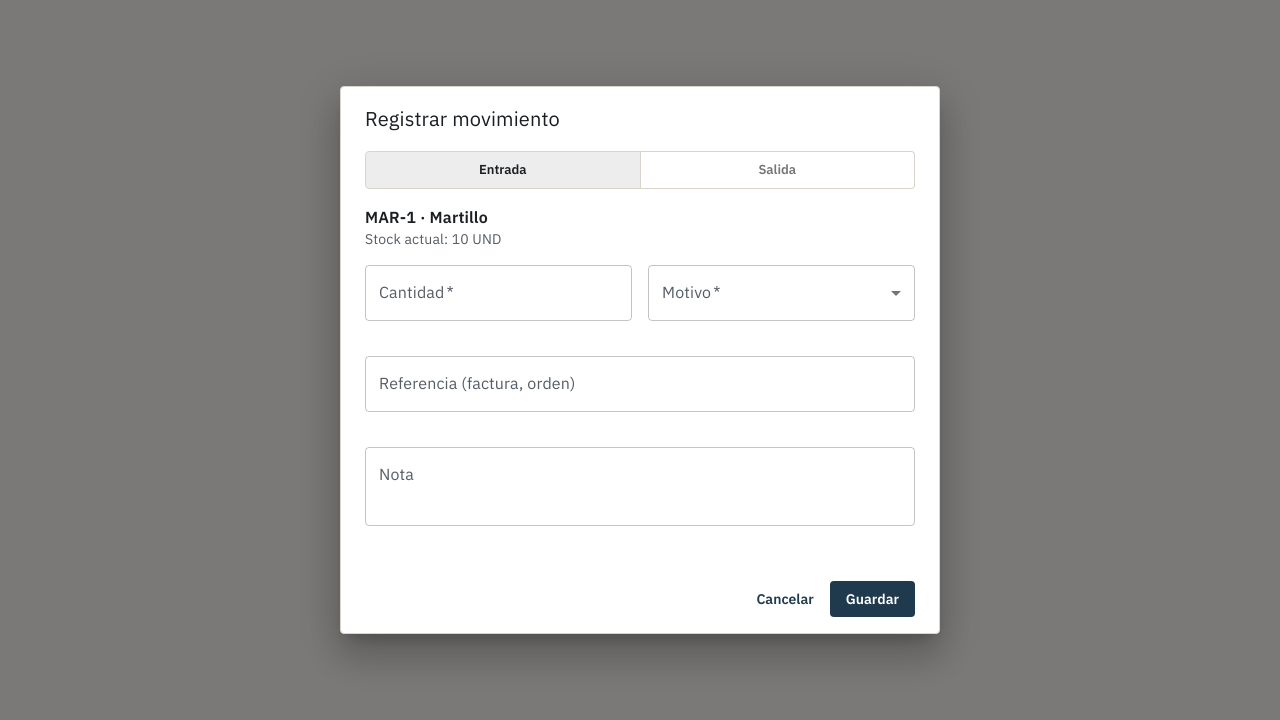
Test: MovimientoDialog › muestra errores y no envía si faltan cantidad y motivo
Click the button "Guardar" at (872,599), box [830,581,915,618]
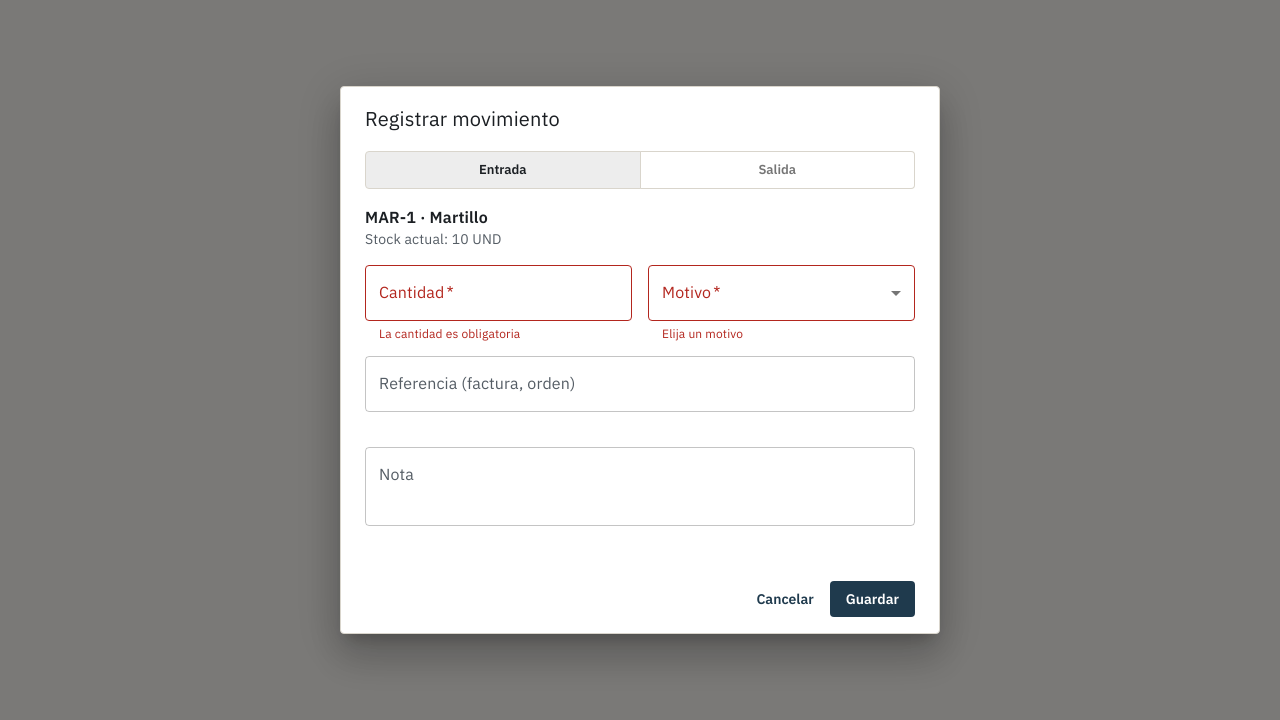
Now the text "La cantidad es obligatoria" is shown, box [379,326,520,341]
Now the text "Elija un motivo" is shown, box [662,326,743,341]
